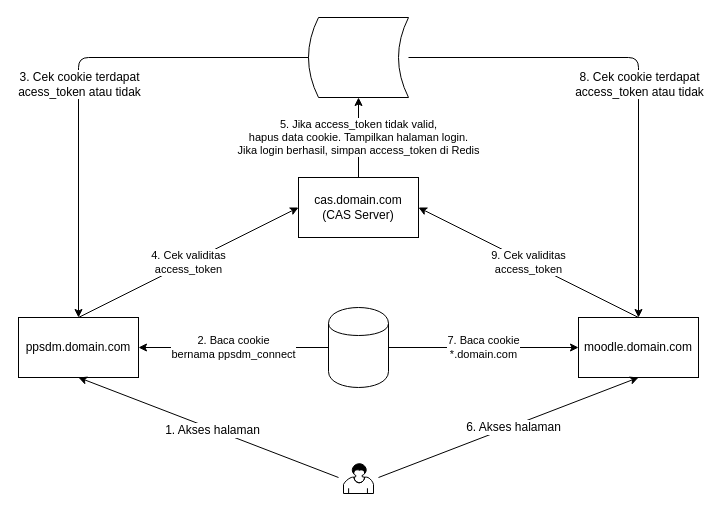
Some shapes in this 720 by 511 pixel diagram are drawn without their labels. The centre of each missing label's shape, as x and y in pixels:
Cookie Browser: pixel 358 347
Redis: pixel 358 57
